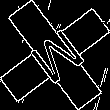M_SE: (22, 21, 88, 89)
